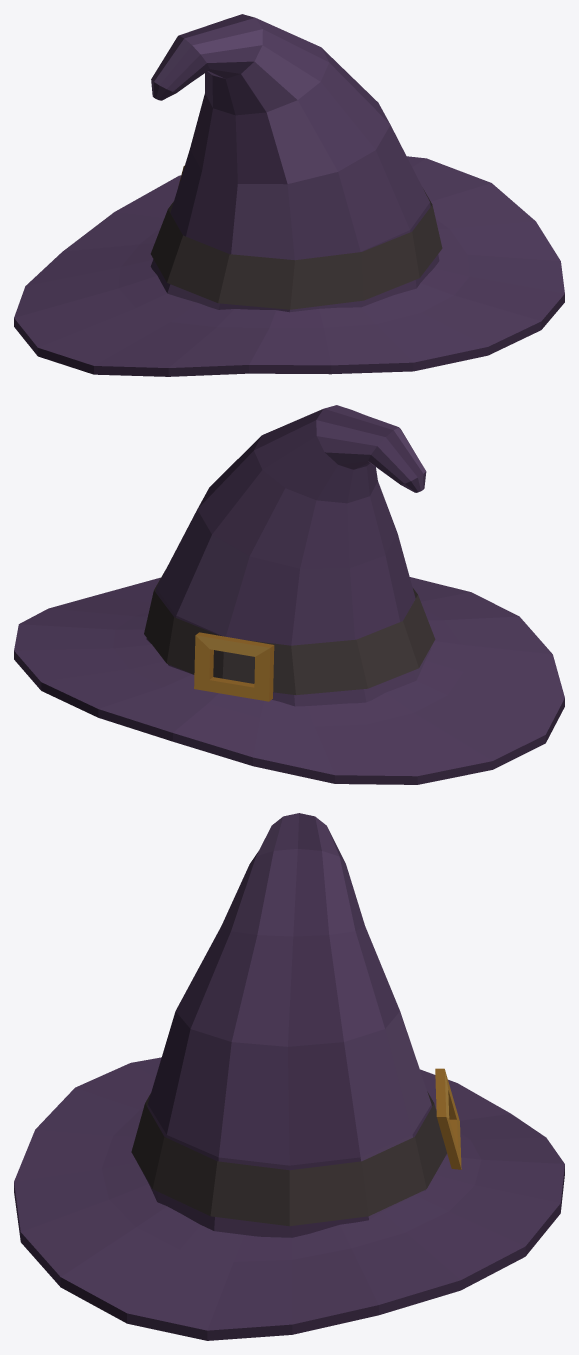
The model's file is Cosmetic_Witch_Hat.glb.
The picture shows the model from 3 angles, top to bottom: view 1: azimuth 30°, elevation 25°; view 2: azimuth 150°, elevation 25°; view 3: azimuth 270°, elevation 25°; orthographic projection. The views are drawn at different scales.
Visible parts, largest first — view 1: Cosmetic_Witch_Hat; view 2: Cosmetic_Witch_Hat; view 3: Cosmetic_Witch_Hat.
Boxes of the visible parts, bbox=[...] form: Cosmetic_Witch_Hat: bbox=[14, 14, 564, 376]; Cosmetic_Witch_Hat: bbox=[14, 405, 564, 784]; Cosmetic_Witch_Hat: bbox=[14, 813, 564, 1340].
Bounding box in the file's own units: 1.48 × 0.8232 × 1.21.
